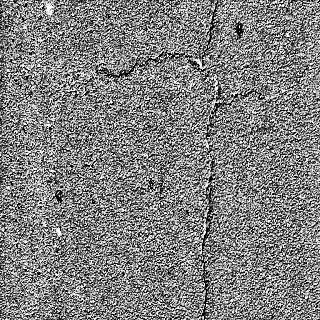crack: (103, 48, 204, 83), (201, 102, 215, 320), (197, 1, 218, 72), (211, 90, 264, 112), (202, 57, 223, 106)
